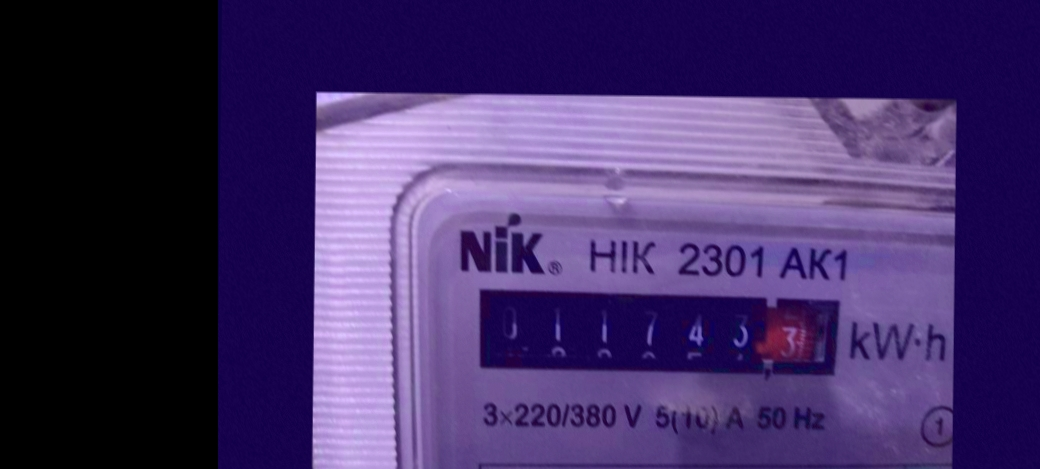0: (499, 302, 522, 342), (549, 302, 568, 343)
1: (596, 303, 613, 345)
3: (731, 308, 752, 351), (779, 322, 799, 360)
4: (686, 308, 707, 348)
7: (639, 304, 663, 348)
screen: (460, 275, 849, 386)
